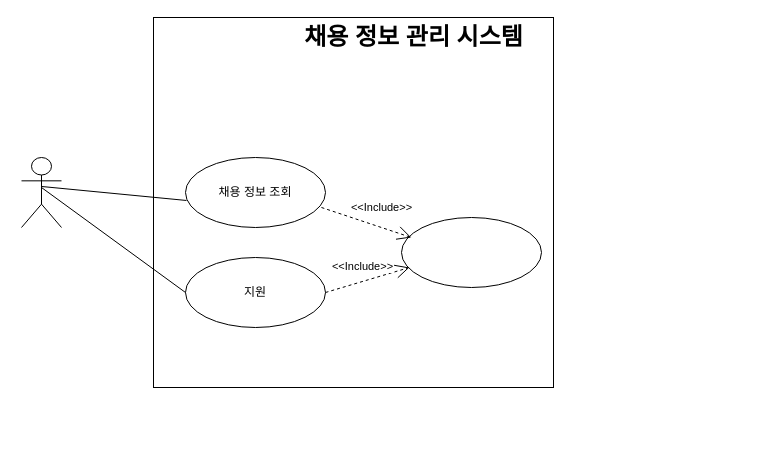
Some shapes in this 759 by 455 pixel diagram are drawn without their labels. The shapes that lost their labels are listed below. From the top down, each one's centre as x and y in pixels, then its label:
(x=41, y=192): 일반 회원
(x=471, y=252): 상세 채용 정보 리스트
